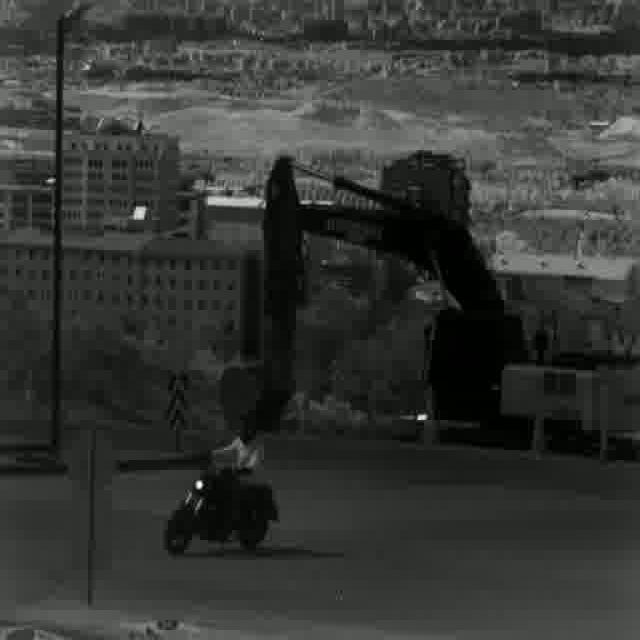Motorcycle: (162, 406, 282, 556)
